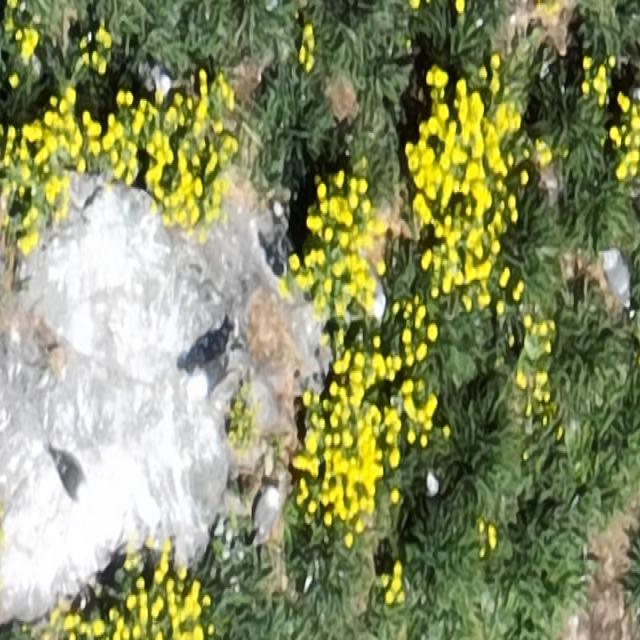umineko: (187, 351, 235, 398), (55, 445, 88, 500), (250, 486, 279, 546), (604, 255, 630, 306)
